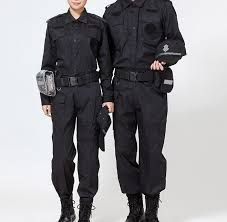uniform: (105, 1, 174, 206), (44, 11, 105, 208)
